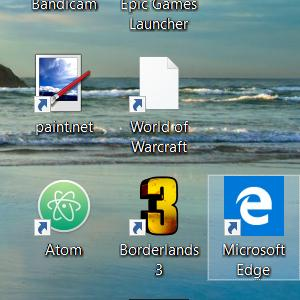edge: (224, 176, 284, 236)
